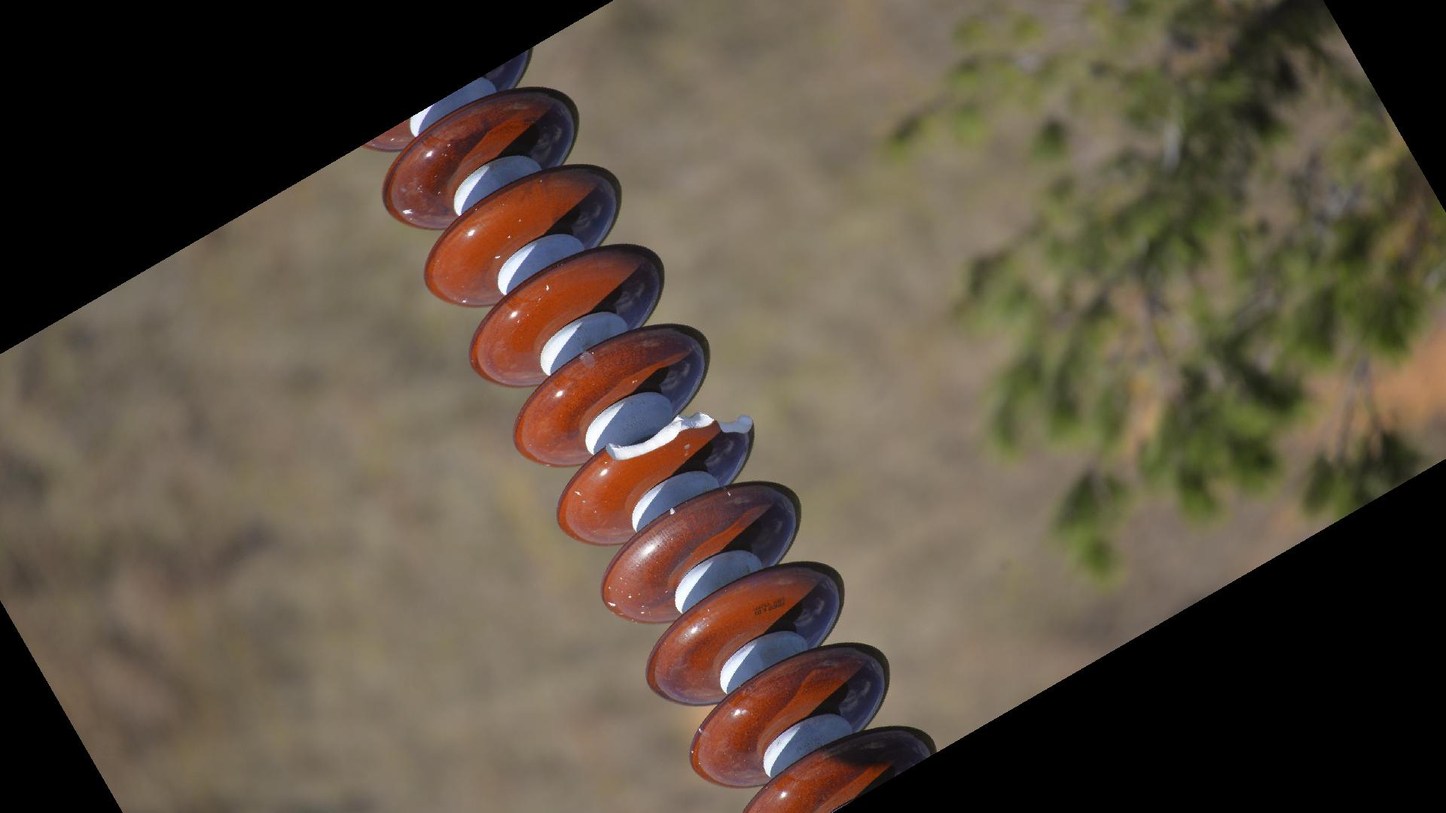insulator: (359, 40, 944, 813)
insulator_breakage: (599, 406, 759, 467)
